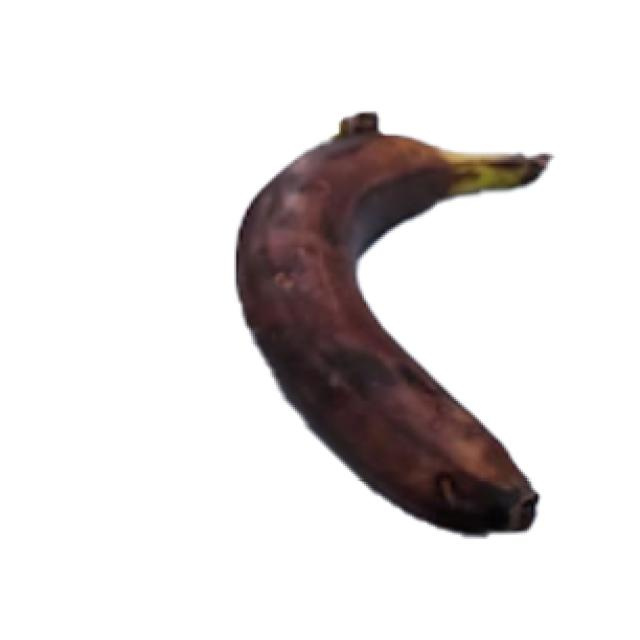rotten-banana: (232, 109, 554, 537)
